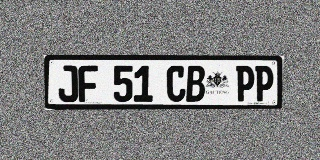1: (133, 66, 153, 102)
5: (113, 65, 133, 102)
B: (186, 66, 205, 102)
C: (167, 66, 186, 102)
F: (78, 65, 98, 102)
J: (58, 65, 78, 102)
P: (235, 66, 255, 101), (254, 66, 274, 101)
